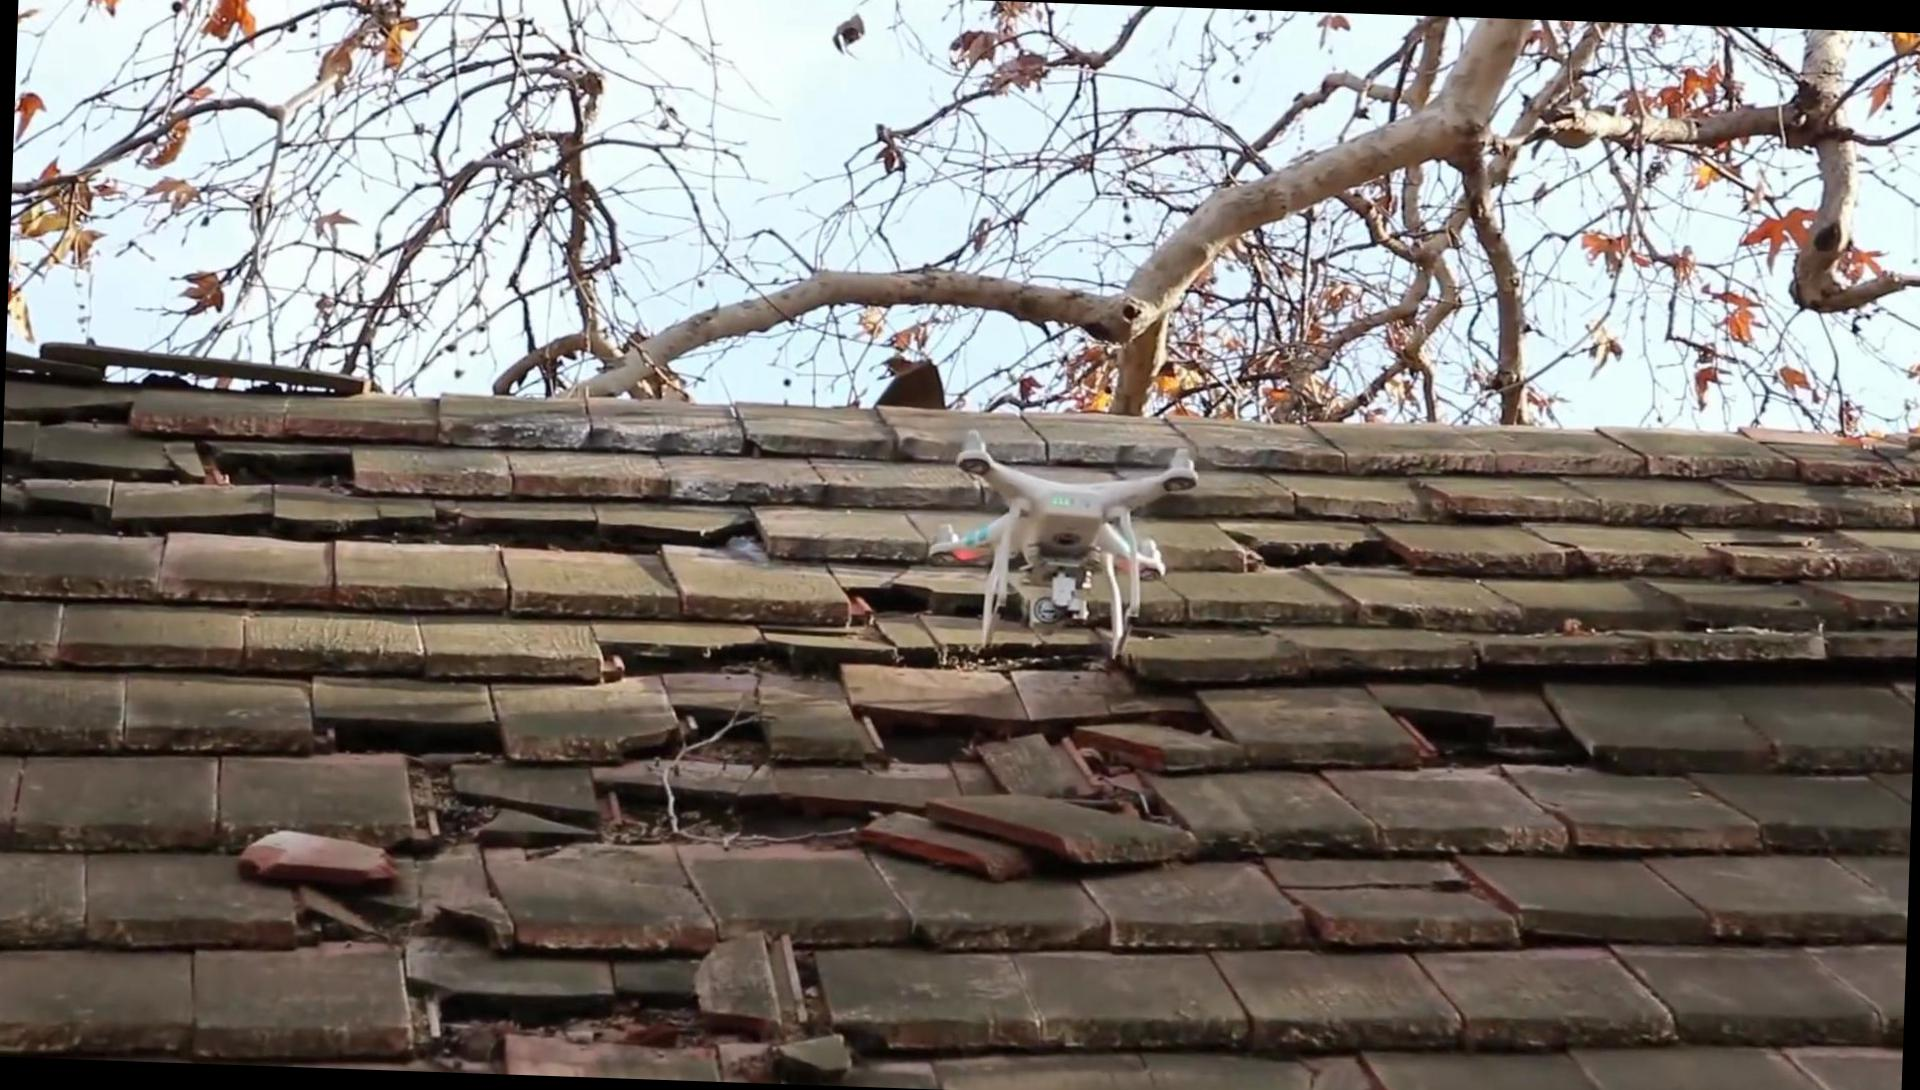drone: (914, 418, 1205, 675)
